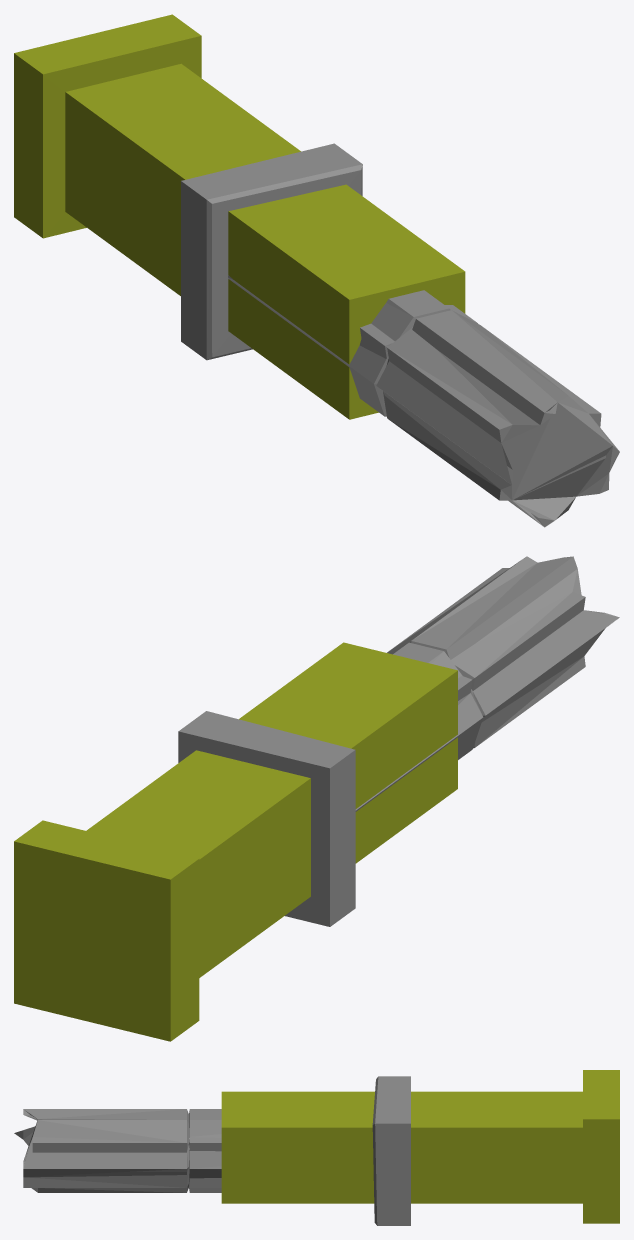
Rendered from ruins_RuinPillar_01.glb.
3 renders of one model, top to bottom at view 1: azimuth 30°, elevation 25°; view 2: azimuth 150°, elevation 25°; view 3: azimuth 270°, elevation 25°, orthographic. The views are drawn at different scales.
Visible parts, largest first — view 1: geometry_0; view 2: geometry_0; view 3: geometry_0.
Part boxes in pixels (<box>): geometry_0: <box>14,14,619,527</box>; geometry_0: <box>14,556,619,1041</box>; geometry_0: <box>14,1070,619,1225</box>.
Bounding box in the file's own units: 0.2349 × 0.2392 × 1.22.
